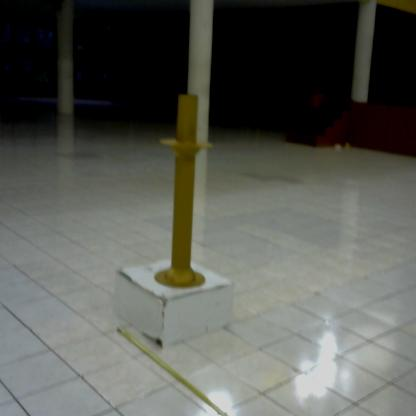pole: (153, 92, 219, 288)
